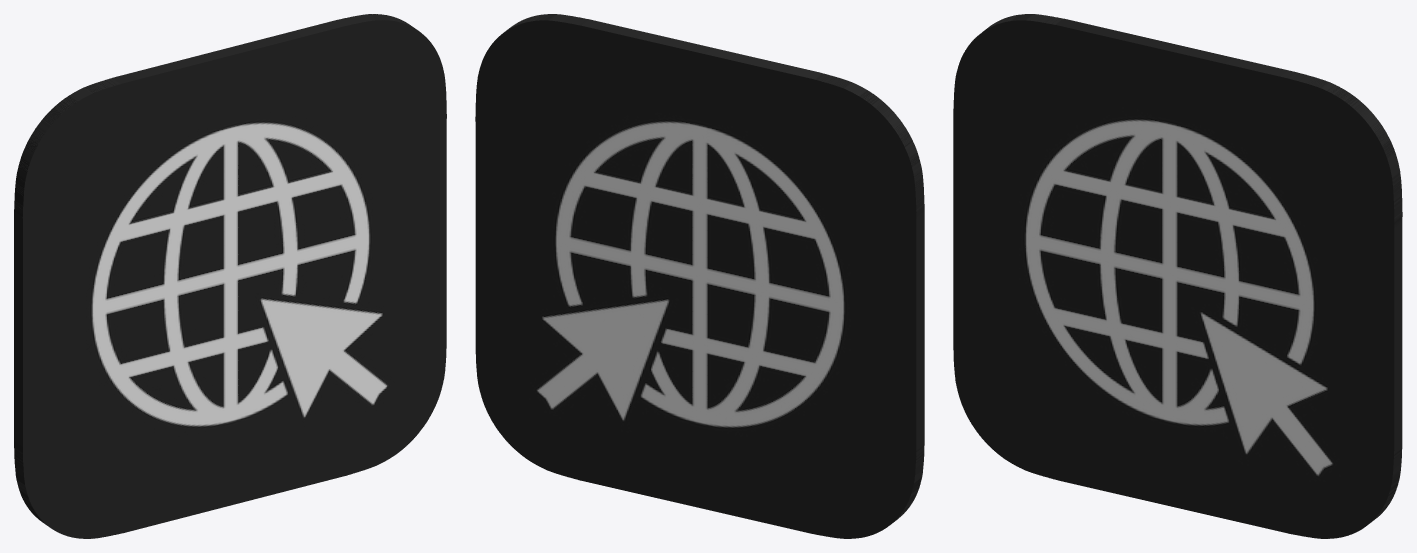
File: WebPortafolioJ.glb
3 renders of one model, left to right at view 1: azimuth 30°, elevation 25°; view 2: azimuth 150°, elevation 25°; view 3: azimuth 330°, elevation 25°, orthographic.
Visible parts, largest first — view 1: Instagram; view 2: Instagram; view 3: Instagram.
Part boxes in pixels (left/top/right/bottom): Instagram: left=14, top=14, right=446, bottom=538; Instagram: left=475, top=14, right=924, bottom=538; Instagram: left=953, top=14, right=1402, bottom=538.
Bounding box in the file's own units: 0.4321 × 0.4316 × 0.0251.
Materials: 1 (1 with a texture image).
